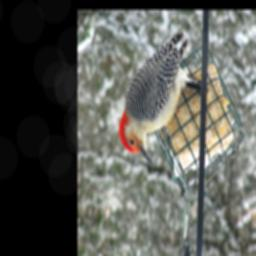Woodpecker: (118, 32, 204, 161)
